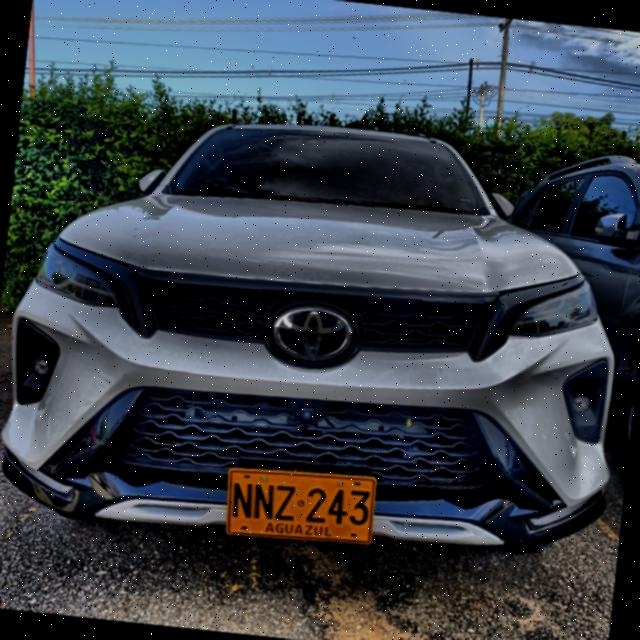2: (304, 485, 327, 523)
3: (348, 488, 370, 526)
4: (326, 488, 347, 525)
N: (252, 482, 275, 520), (231, 481, 253, 519)
Z: (274, 483, 296, 521)
